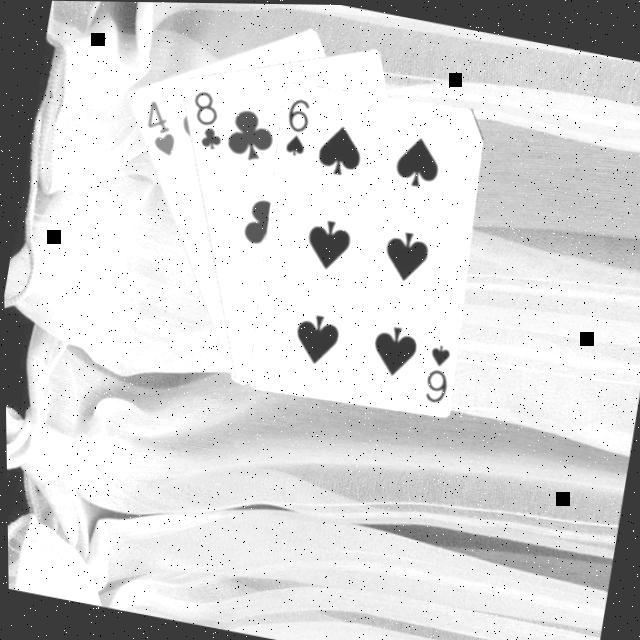4H: (137, 93, 185, 158)
6S: (278, 90, 317, 158), (418, 336, 456, 404)
8C: (183, 82, 234, 152)
